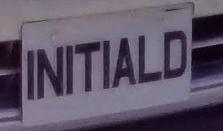1: (21, 42, 38, 106), (98, 36, 114, 94)
A: (111, 33, 139, 93)
D: (161, 20, 191, 88)
L: (134, 26, 166, 89)
N: (34, 40, 65, 107)
T: (69, 37, 100, 100)
